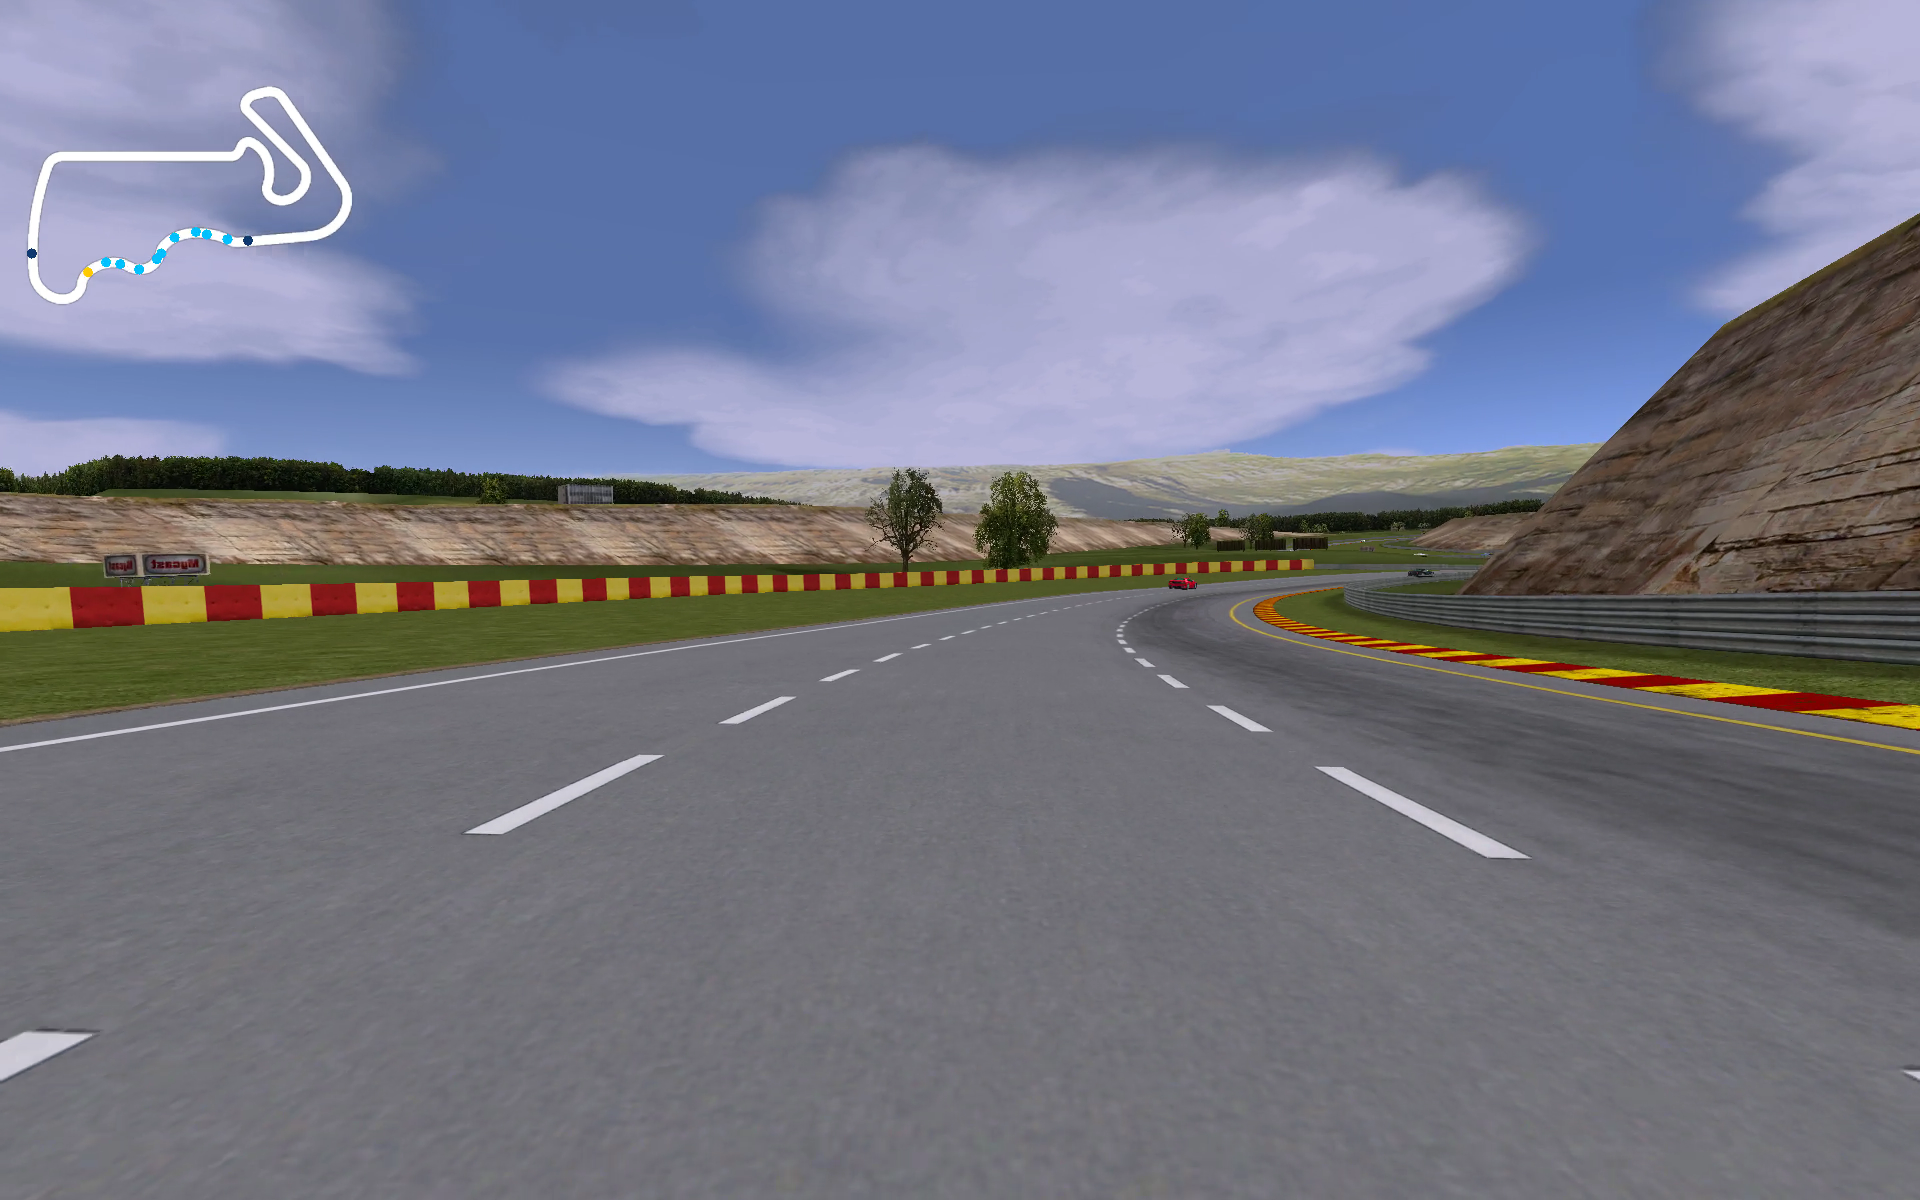car: (1167, 572, 1197, 592)
